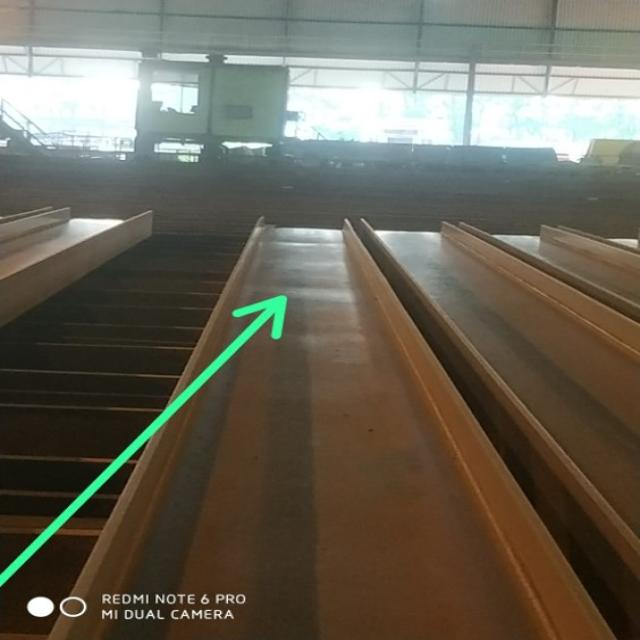defect: (244, 229, 363, 308)
